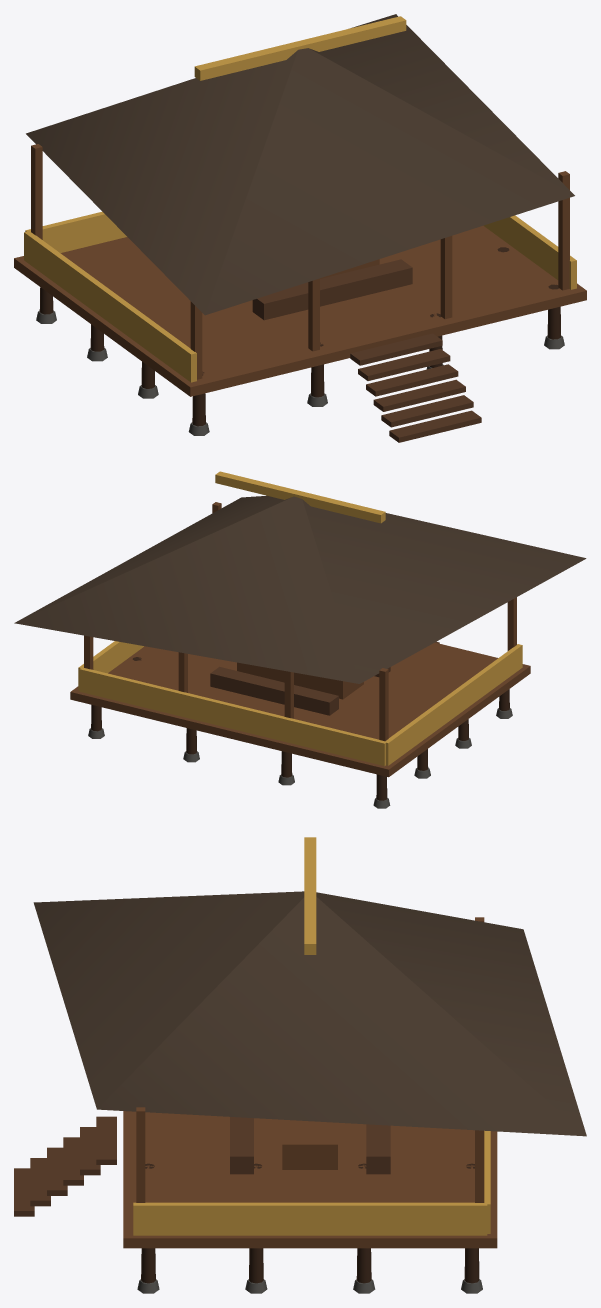
Rendered from nuwo-sesat.glb.
The picture shows the model from 3 angles, top to bottom: view 1: azimuth 30°, elevation 25°; view 2: azimuth 150°, elevation 25°; view 3: azimuth 270°, elevation 25°; orthographic projection. The views are drawn at different scales.
Visible parts, largest first — view 1: ROOF_SYSTEM, FLOOR_SYSTEM, WALL_SYSTEM, ENTRANCE_STAIRS, STRUCTURAL_COLUMNS, BENCH_DEDEGU_S, FOUNDATION_SYSTEM; view 2: ROOF_SYSTEM, FLOOR_SYSTEM, WALL_SYSTEM, STRUCTURAL_COLUMNS, BENCH_DEDEGU_N, COUNCIL_TABLE_TABA, FOUNDATION_SYSTEM; view 3: ROOF_SYSTEM, FLOOR_SYSTEM, WALL_SYSTEM, ENTRANCE_STAIRS, STRUCTURAL_COLUMNS, COUNCIL_TABLE_TABA, BENCH_DEDEGU_S, BENCH_DEDEGU_N, FOUNDATION_SYSTEM.
Part boxes in pixels (bbox=[...]): ROOF_SYSTEM: bbox=[26, 14, 574, 315]; FLOOR_SYSTEM: bbox=[14, 225, 586, 396]; WALL_SYSTEM: bbox=[24, 211, 576, 382]; ENTRANCE_STAIRS: bbox=[350, 333, 481, 442]; STRUCTURAL_COLUMNS: bbox=[31, 144, 569, 426]; BENCH_DEDEGU_S: bbox=[252, 259, 412, 320]; FOUNDATION_SYSTEM: bbox=[36, 310, 564, 435]; ROOF_SYSTEM: bbox=[14, 471, 586, 683]; FLOOR_SYSTEM: bbox=[70, 642, 530, 777]; WALL_SYSTEM: bbox=[78, 641, 522, 766]; STRUCTURAL_COLUMNS: bbox=[84, 502, 516, 800]; BENCH_DEDEGU_N: bbox=[210, 666, 338, 715]; COUNCIL_TABLE_TABA: bbox=[237, 662, 363, 699]; FOUNDATION_SYSTEM: bbox=[88, 708, 512, 808]; ROOF_SYSTEM: bbox=[33, 837, 586, 1136]; FLOOR_SYSTEM: bbox=[123, 1111, 497, 1248]; WALL_SYSTEM: bbox=[133, 1130, 490, 1235]; ENTRANCE_STAIRS: bbox=[14, 1116, 116, 1216]; STRUCTURAL_COLUMNS: bbox=[136, 917, 484, 1283]; COUNCIL_TABLE_TABA: bbox=[282, 1119, 337, 1169]; BENCH_DEDEGU_S: bbox=[230, 1117, 253, 1174]; BENCH_DEDEGU_N: bbox=[366, 1124, 390, 1174]; FOUNDATION_SYSTEM: bbox=[137, 1279, 482, 1293].
Size of what is drawn, in the model's own units: 10.95 by 6.7 by 11.33.
